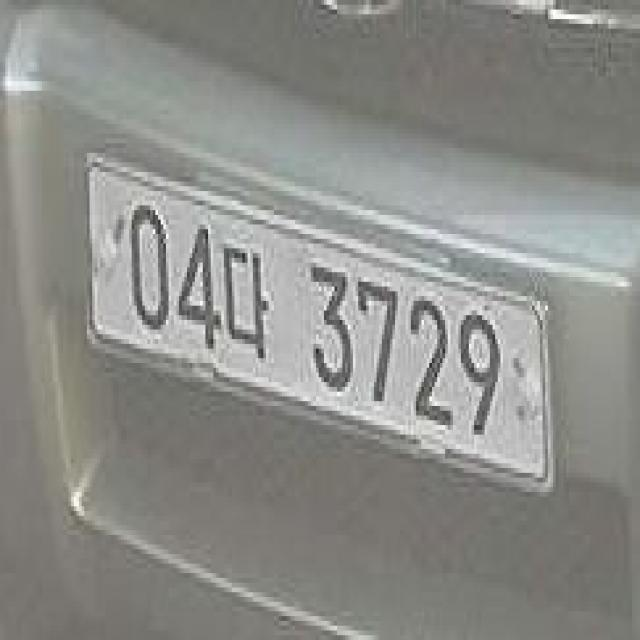illegal_plate: (88, 146, 556, 502)
